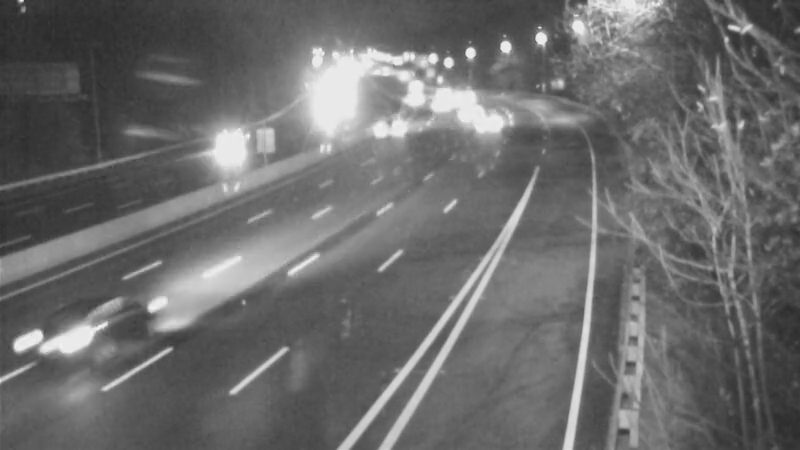vehicle: (14, 287, 124, 397), (188, 95, 298, 205), (414, 83, 464, 133), (434, 88, 484, 138), (453, 99, 503, 149), (361, 98, 411, 148)
